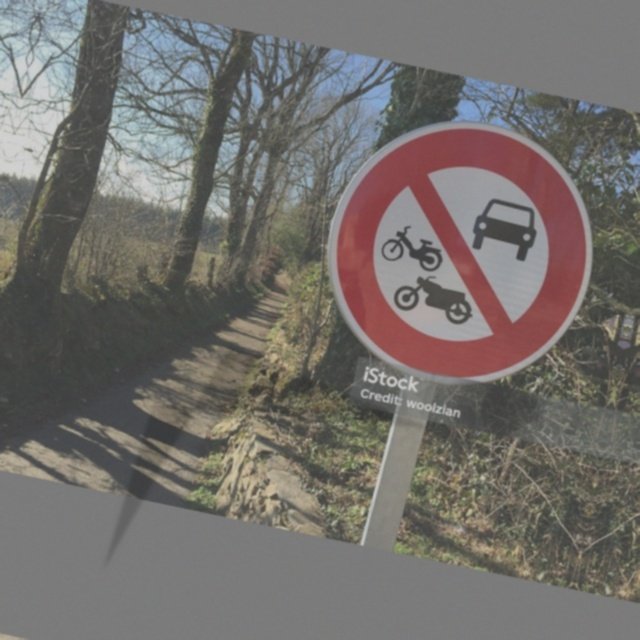All_Motor_Vehicles_Prohibited: (308, 97, 617, 401)
